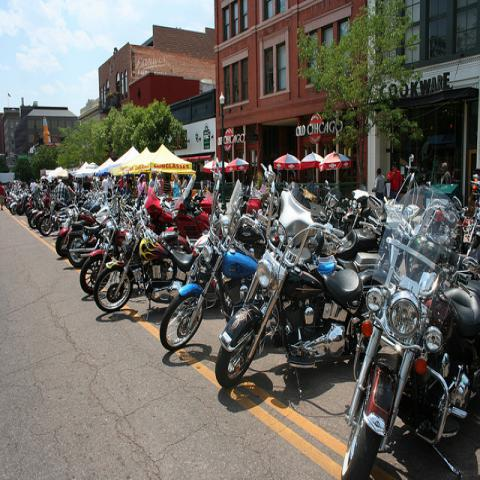motorcycle: (338, 182, 480, 479), (210, 152, 375, 401), (161, 181, 268, 352), (93, 206, 195, 312), (307, 194, 385, 267), (139, 227, 196, 322), (78, 194, 129, 296), (54, 186, 118, 258), (66, 226, 106, 268), (38, 193, 69, 236), (327, 194, 361, 232), (28, 191, 50, 228), (10, 194, 29, 216), (24, 192, 36, 215)
